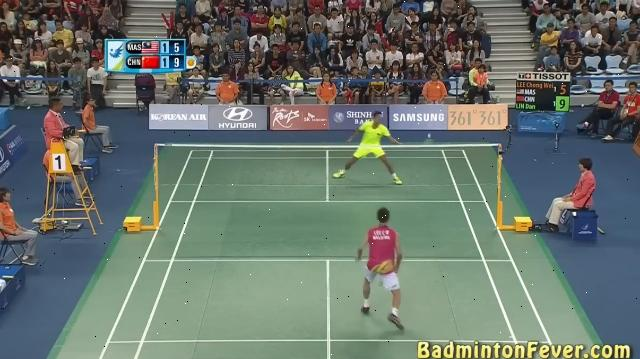Shuttlecock: (422, 132, 433, 140)
